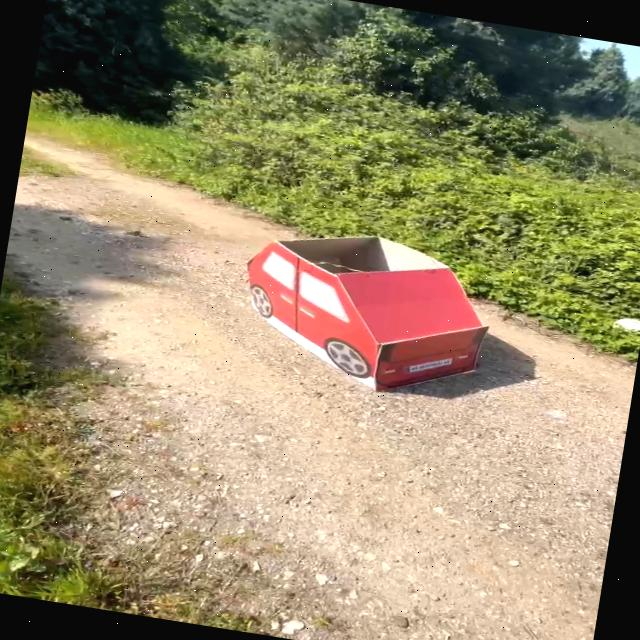red_car: (195, 206, 578, 427)
